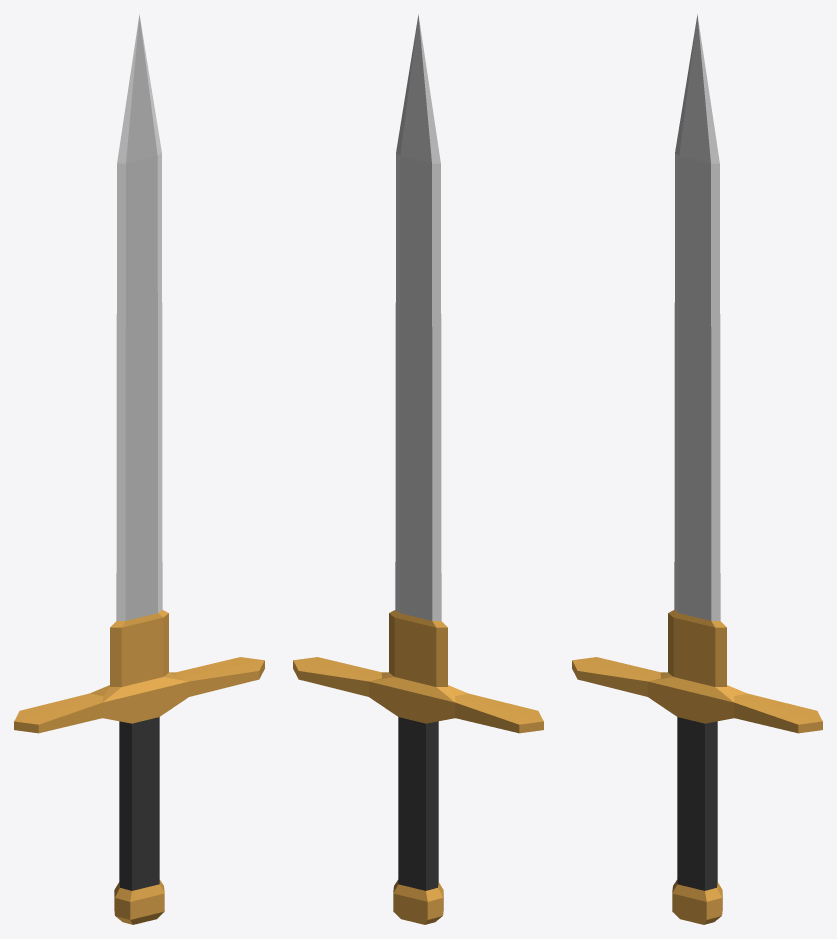
File: Sword.fbx
The picture shows the model from 3 angles, left to right: view 1: azimuth 30°, elevation 25°; view 2: azimuth 150°, elevation 25°; view 3: azimuth 330°, elevation 25°; orthographic projection.
Parts seen in each view (by area): view 1: Sword; view 2: Sword; view 3: Sword.
Part boxes in pixels (left/top/right/bottom): Sword: left=14, top=14, right=264, bottom=924; Sword: left=293, top=14, right=543, bottom=924; Sword: left=572, top=14, right=822, bottom=924.
Bounding box in the file's own units: 0.039 × 0.2977 × 1.03.
